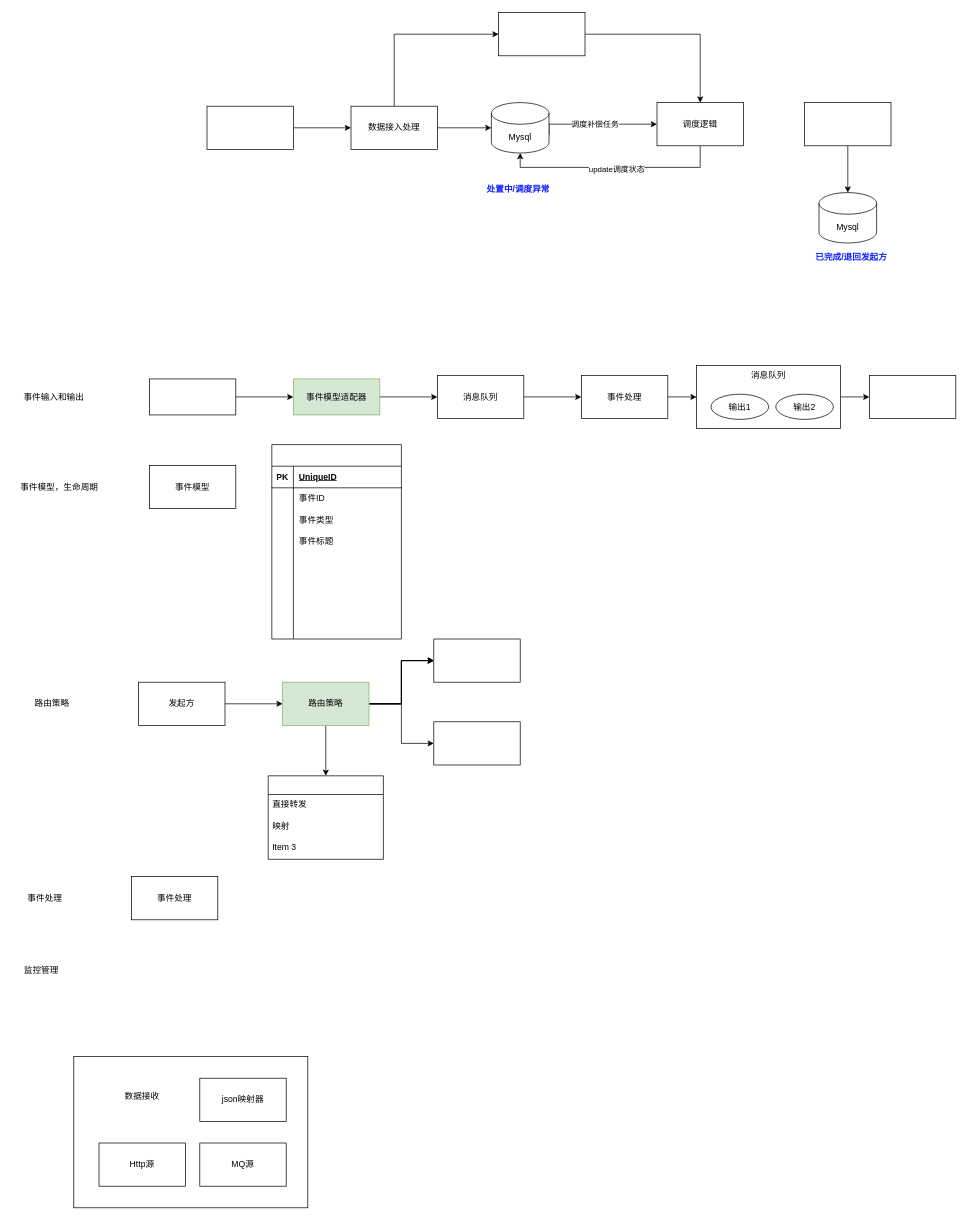
The diagram is 968 pixels wide and 1220 high, and some of its shapes have lost their labels. The box of each missing label's shape, as (x1, y1, x2, y2) in pixels:
Table: (271, 444, 401, 639)
事件处置: (804, 102, 891, 146)
事件接入: (149, 378, 236, 415)
事件接入接口: (206, 105, 293, 149)
事件输出: (869, 375, 956, 419)
接收方1: (433, 638, 520, 682)
接收方2: (433, 721, 520, 765)
调度队列: (498, 12, 585, 56)
路由类型: (267, 775, 383, 859)
